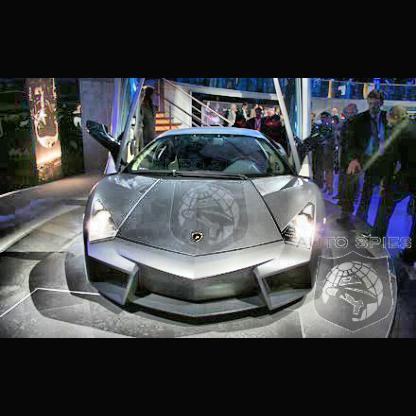Lamborghini Reventon Coupe 2008: (85, 80, 324, 325)
